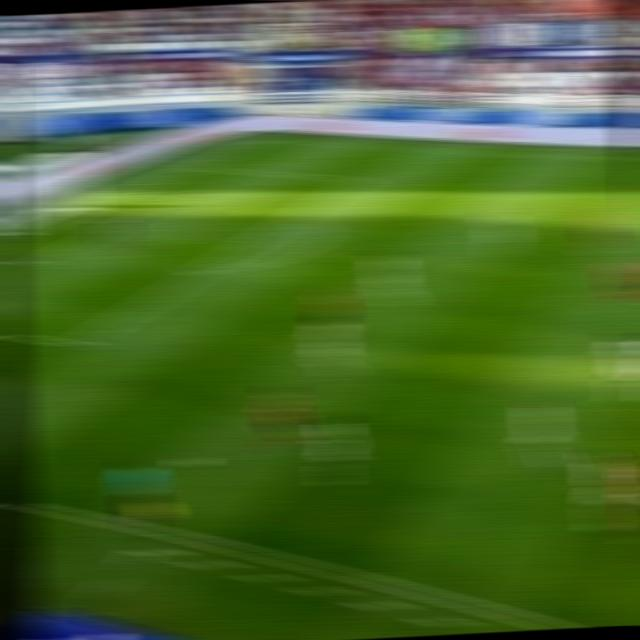bigarea_bottom_inner: (58, 330, 96, 356)
bigarea_top_inner: (343, 170, 379, 190)
bigarea_top_outter: (176, 157, 216, 176)
bottom_arc_area_intersection: (187, 262, 221, 281)
corner: (244, 132, 282, 146)
smallarea_bottom_inner: (19, 254, 54, 274)
smallarea_top_inner: (158, 190, 201, 210)
smallarea_top_outter: (109, 184, 147, 204)
top_arc_area_intersection: (281, 204, 321, 227)
